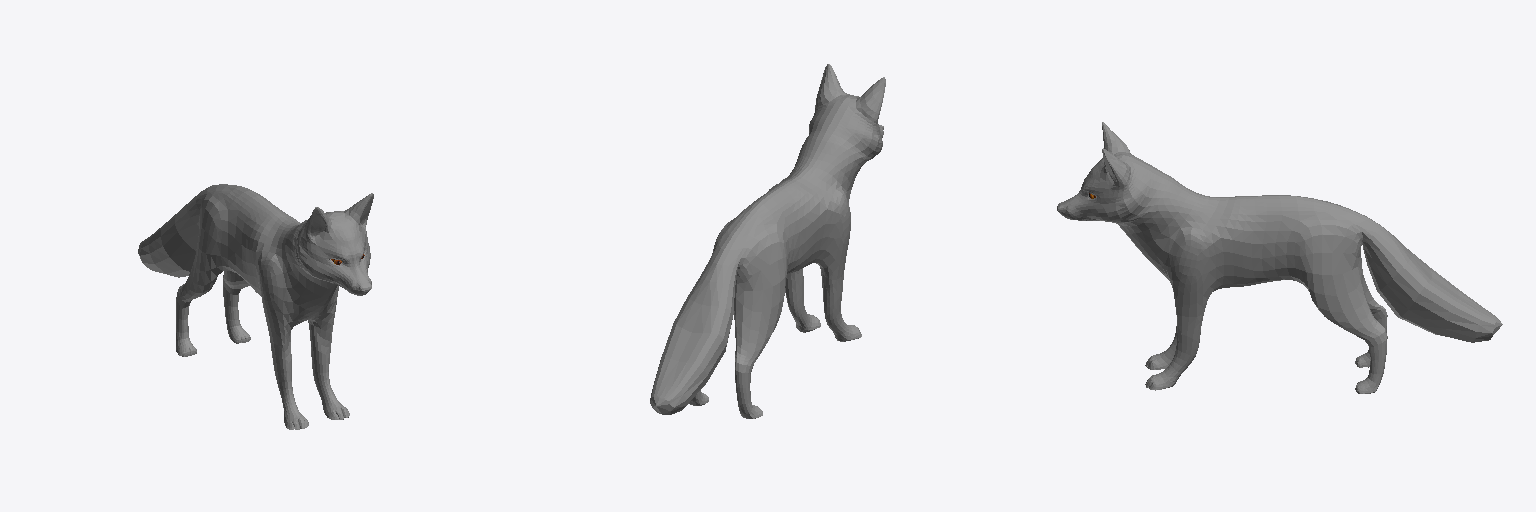
The picture shows the model from 3 angles: view 1: azimuth 30°, elevation 25°; view 2: azimuth 150°, elevation 25°; view 3: azimuth 270°, elevation 25°; orthographic projection.
Visible parts, largest first — view 1: Fox; view 2: Fox; view 3: Fox.
Boxes of the visible parts, box(x1,y1,x2,y2) form: Fox: box(138, 184, 373, 429); Fox: box(650, 64, 885, 418); Fox: box(1057, 122, 1502, 393).
Bounding box in the file's own units: 1.92 × 6.17 × 10.31.
2 materials, 1 textured.